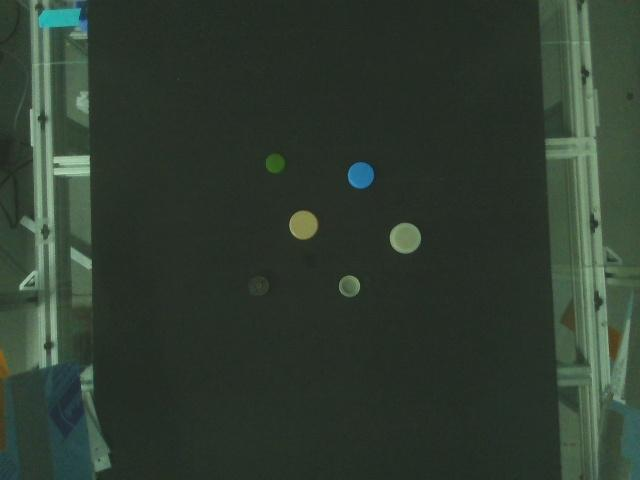plastic: (388, 220, 424, 255), (288, 209, 320, 242), (346, 159, 377, 191), (245, 273, 272, 300), (337, 274, 362, 298), (264, 151, 287, 176)
